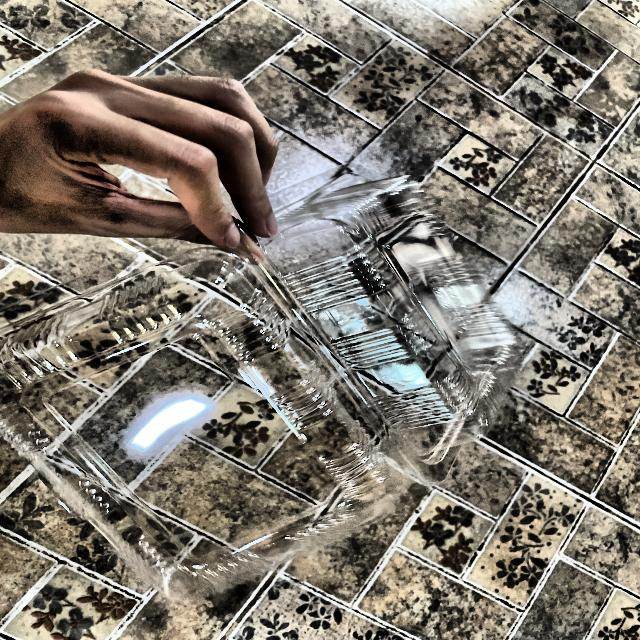plastic container: (0, 162, 503, 551)
